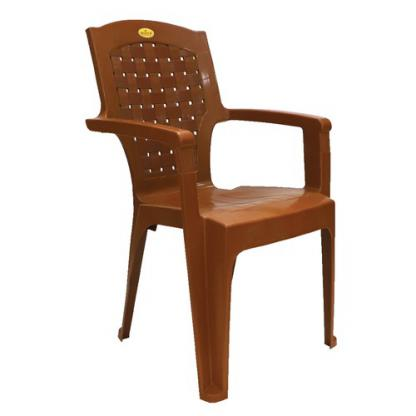chair: (74, 18, 340, 410)
